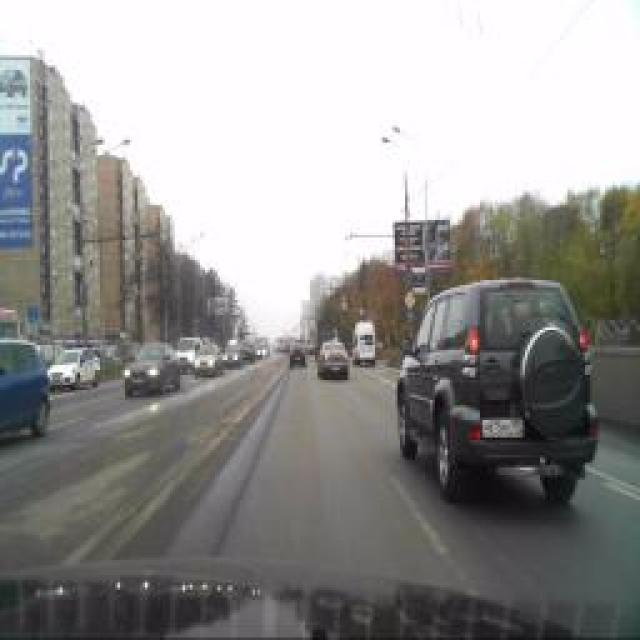sign: (405, 312, 415, 326)
